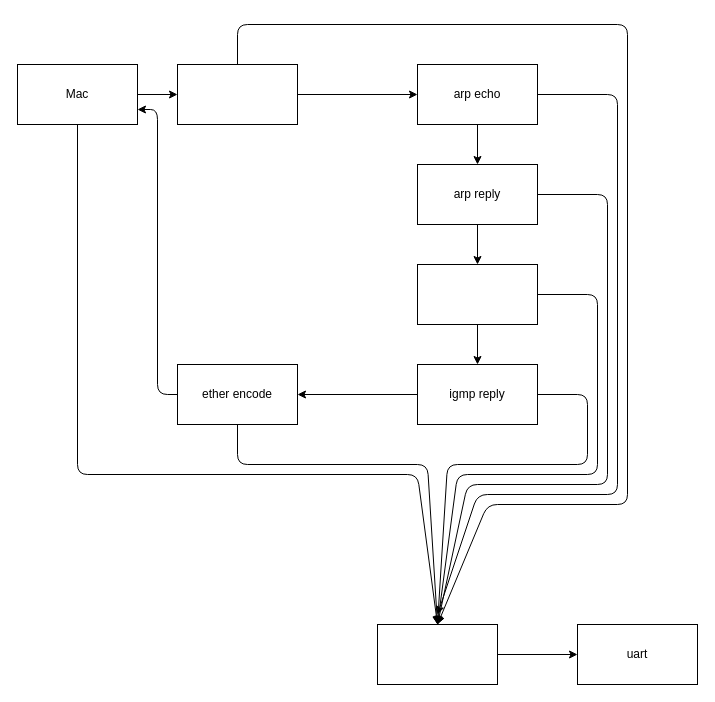
Some shapes in this 715 by 702 pixel diagram are drawn without their labels. Here are the shapes that lost their labels. From the top down, the centre of each, then its label:
[237,94]: ether decode encapsulate
[477,294]: igmp echo
[437,654]: uart arbiter
